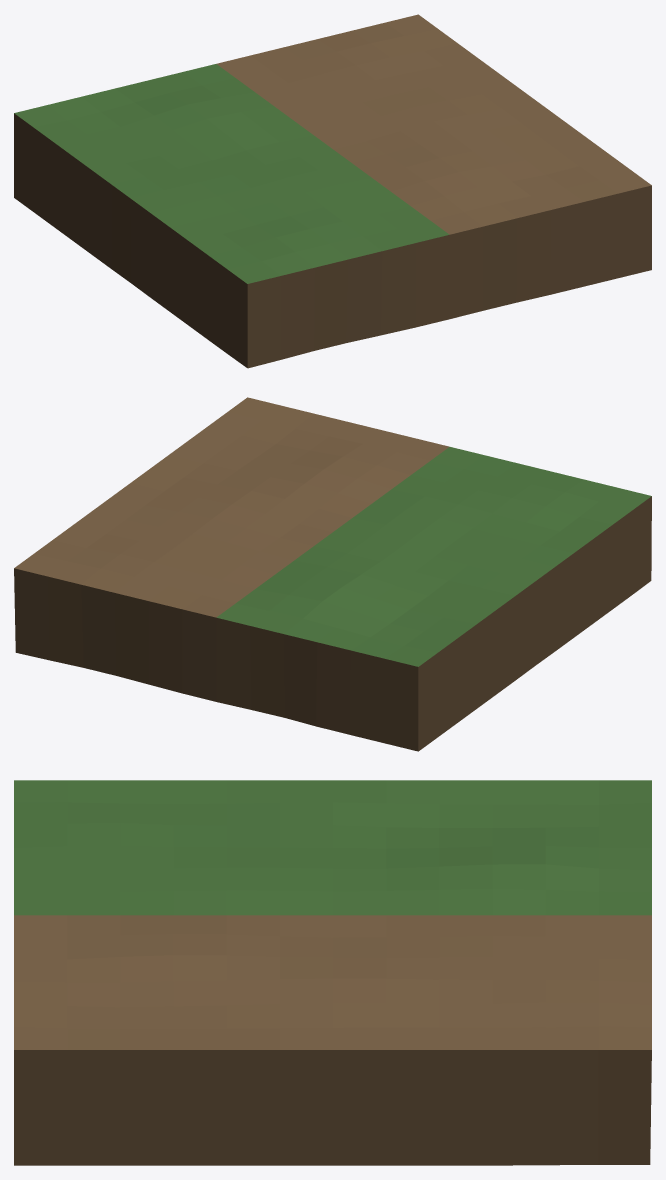
File: grass_dirt_edge.glb
The picture shows the model from 3 angles, top to bottom: view 1: azimuth 30°, elevation 25°; view 2: azimuth 150°, elevation 25°; view 3: azimuth 270°, elevation 25°; orthographic projection. The views are drawn at different scales.
Parts seen in each view (by area): view 1: Grid; view 2: Grid; view 3: Grid.
Boxes of the visible parts, x1,y1,x2,y2 form: Grid: (14, 14, 651, 368); Grid: (14, 397, 651, 751); Grid: (14, 780, 651, 1165).
Bounding box in the file's own units: 1 × 0.2101 × 1.
